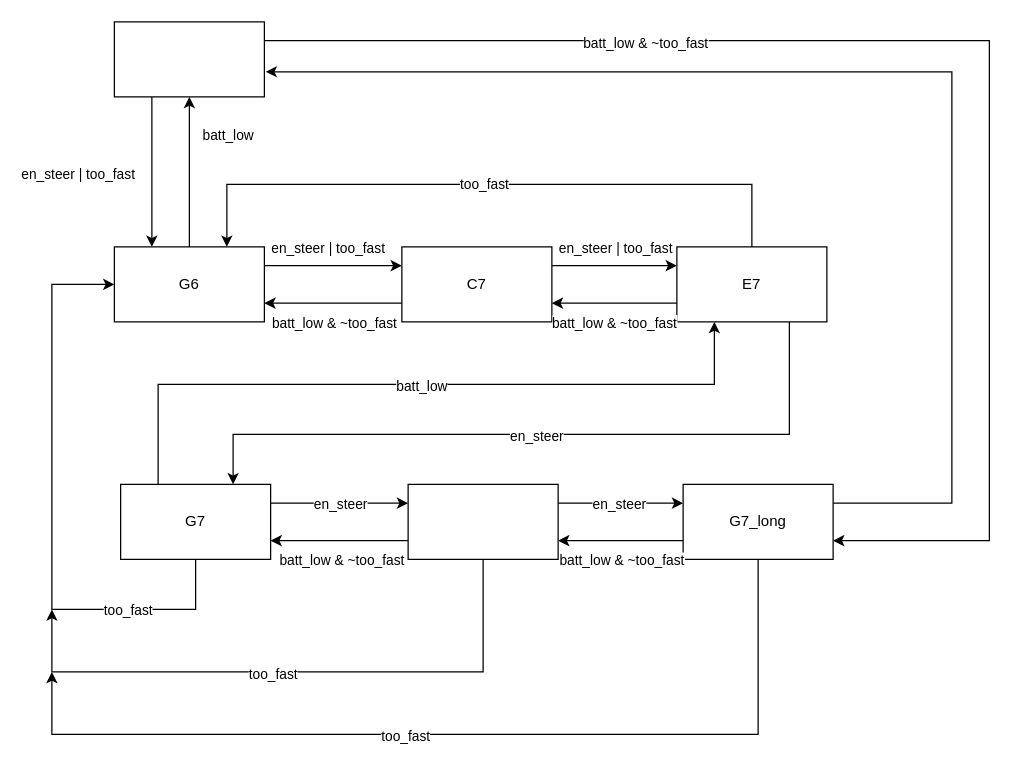
This 1023x766 diagram has some shape labels left out. The centre of each missing label's shape, as x and y in pixels:
E7_short: the point at 482,521
WAIT: the point at 188,59
